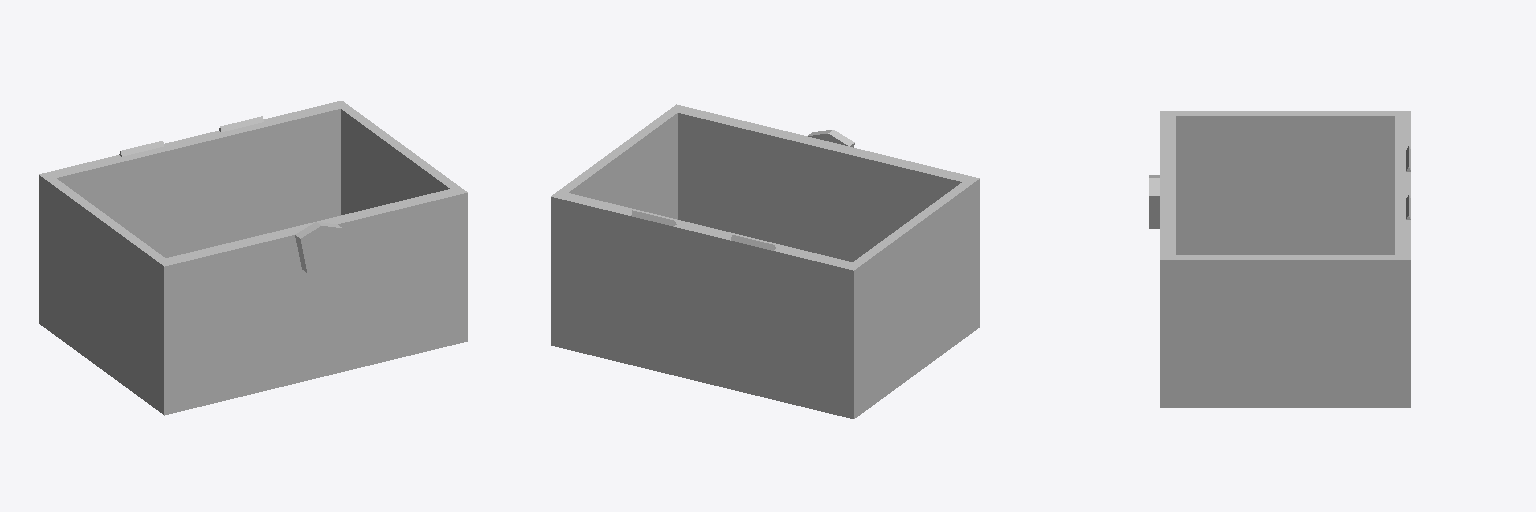
File: chestbase.obj
3 views of the same model, side by side, from view 1: azimuth 30°, elevation 25°; view 2: azimuth 150°, elevation 25°; view 3: azimuth 270°, elevation 25° (orthographic).
Visible parts, largest first — view 1: base; view 2: base; view 3: base.
Boxes of the visible parts, box(x1,y1,x2,y2) form: base: box(39, 101, 467, 415); base: box(551, 104, 979, 418); base: box(1149, 111, 1410, 407).
Size of the model in its own units: 6.4 by 3.16 by 4.8.